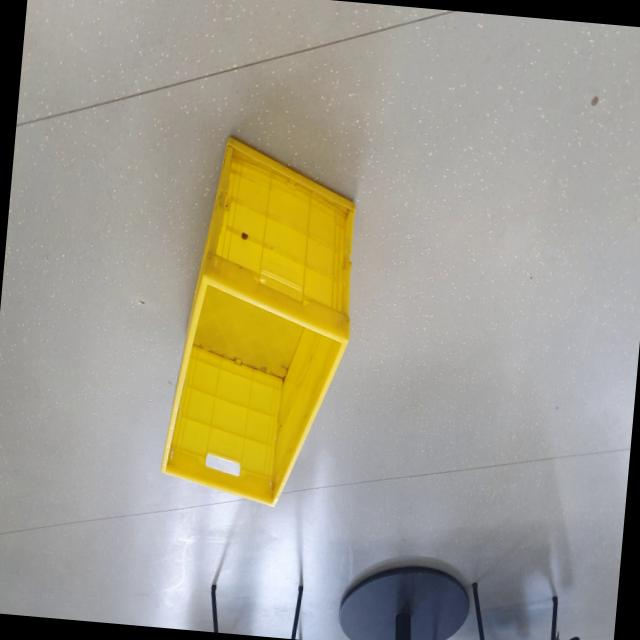box: (155, 112, 370, 522)
